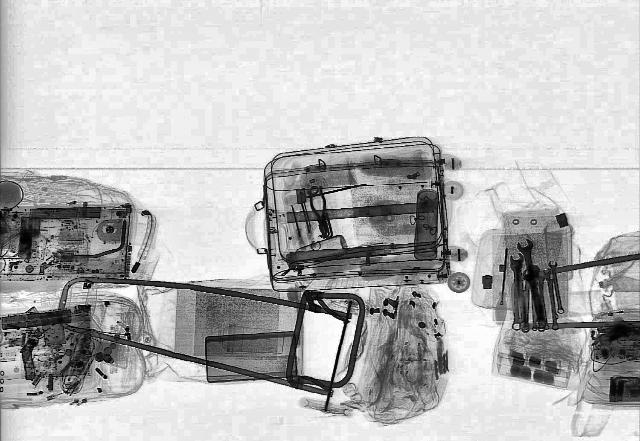Pliers: (304, 186, 336, 238)
Wrench: (514, 239, 554, 330), (507, 254, 533, 330), (548, 260, 568, 314)
